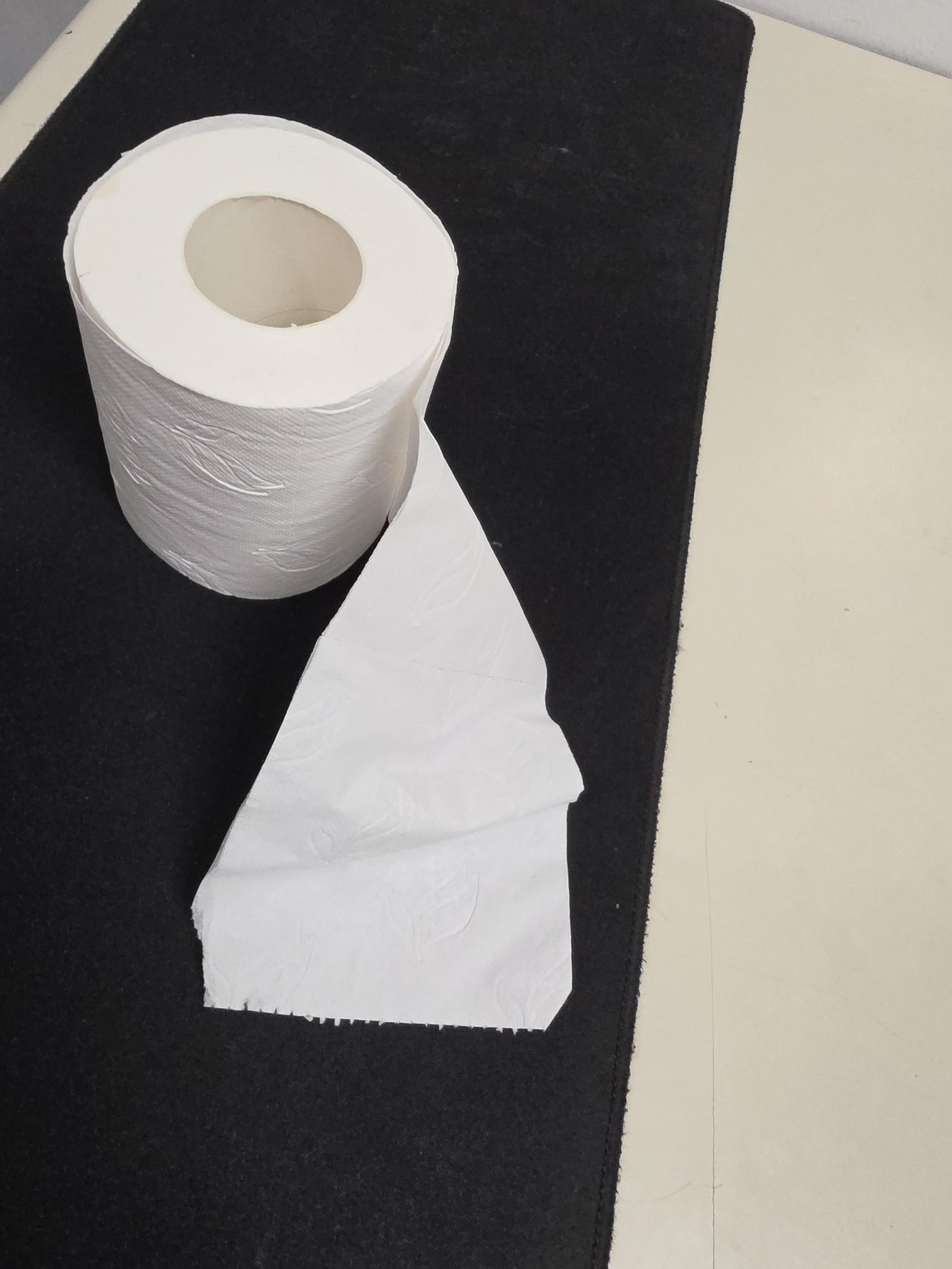tissue: (63, 113, 585, 1034)
